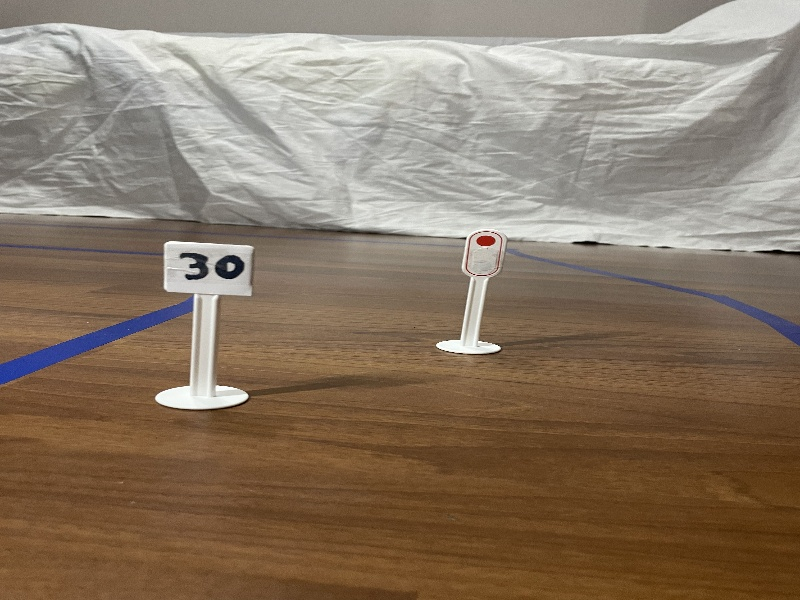semafor_rosu: (459, 222, 510, 284)
viteza_limita_30: (156, 233, 266, 307)
